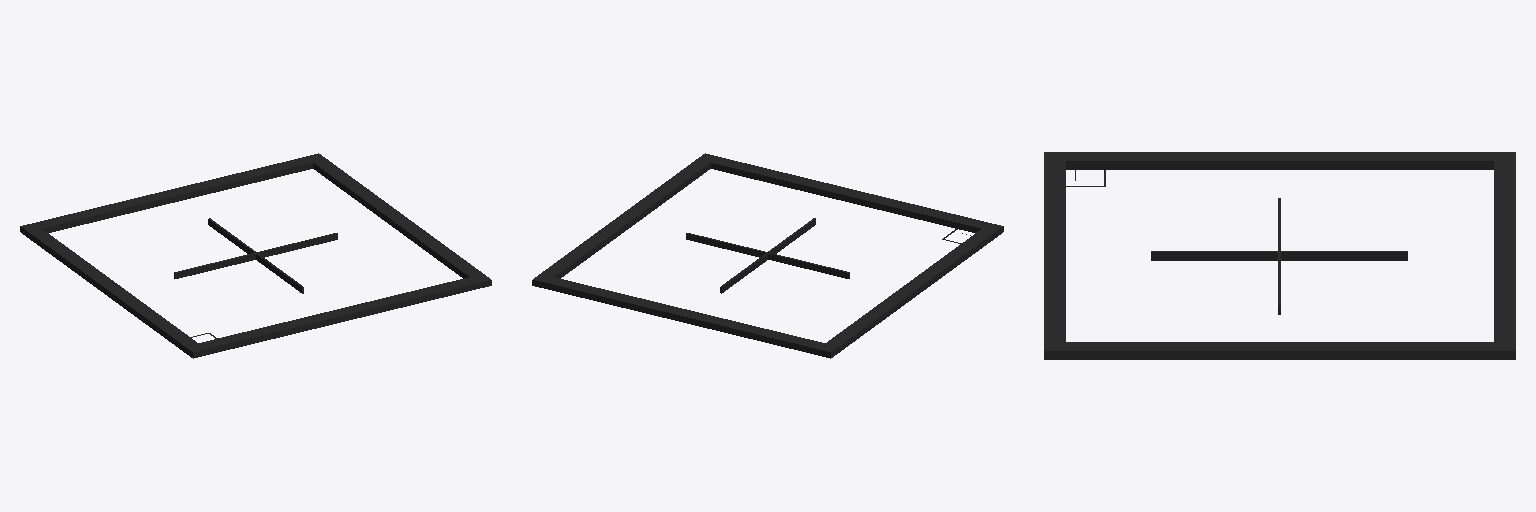
URDF robot description (Room68):
<robot name="Room68">
    <link name="_name">
        <visual> 
            <origin rpy="0.0 0.0 0.0" xyz="-0.502165973658723 -0.49783176636444554 -0.009999999999999998" />
                <geometry>
                    <mesh filename="Room68/Room68.obj" scale="1 1 0.1" />
                </geometry>

            <material name="black">
                <color rgba="0.2 0.2 0.2 0.95" />
            </material>
        </visual>

       <collision concave="yes" name="collision_0">
            <origin rpy="0.0 0.0 0.0" xyz="-0.502165973658723 -0.49783176636444554 -0.009999999999999998" />
            <geometry>
                <mesh filename="Room68/Room68_vhacd.obj" scale="1 1 0.1" />
            </geometry>
        </collision>

        <inertial> 
            <mass value="0" />
            <inertia ixx="0" ixy="0" ixz="0" iyy="0" iyz="0" izz="0" />
        </inertial> 
    </link>
</robot>

--- Facts derived from the render (not from the file) ---
Views: 3 orthographic renders of the robot side by side, from view 1: azimuth 30°, elevation 25°; view 2: azimuth 150°, elevation 25°; view 3: azimuth 270°, elevation 25°.
Model Room68 with 1 links and 0 joints (none), rooted at _name, posed every joint at zero.
Links seen in each view (by area): view 1: _name; view 2: _name; view 3: _name.
Link boxes in pixels (box(x1,y1,x2,y2)): _name: box(20, 153, 491, 358); _name: box(532, 153, 1003, 358); _name: box(1044, 152, 1515, 359).
Size in the robot's own frame: 1 by 1 by 0.02 metres.
1 mesh visuals loaded from 1 distinct referenced files (1 OBJ).